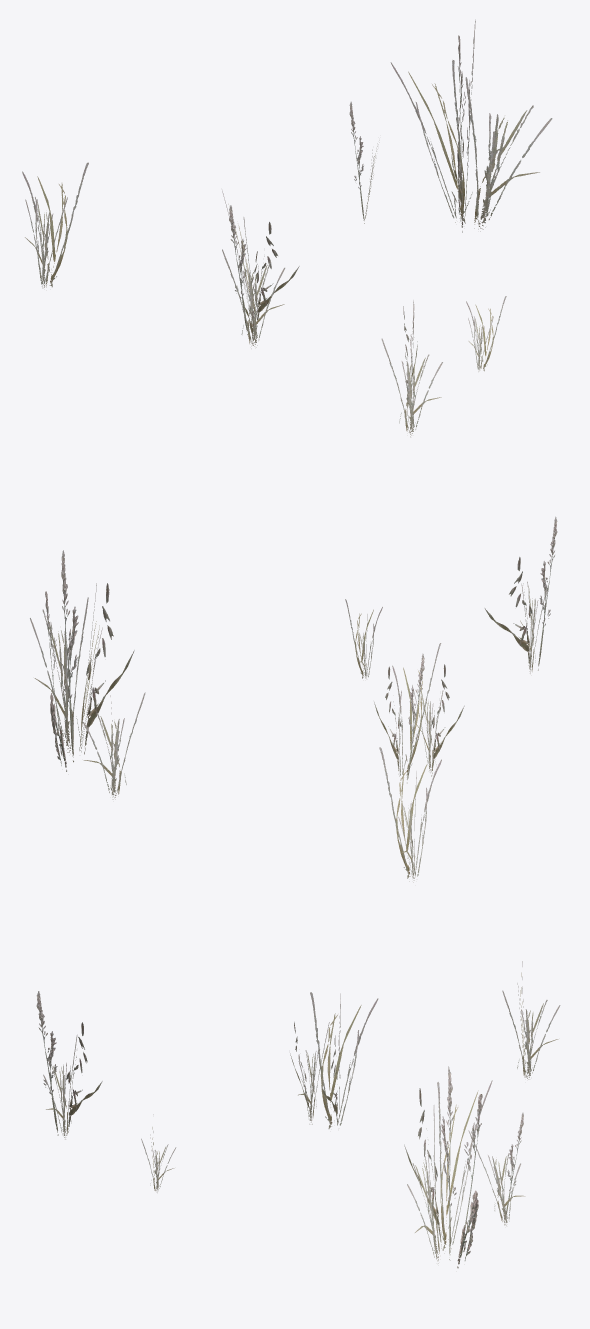
File: urbandryfrnds_01.FBX
3 renders of one model, top to bottom at view 1: azimuth 30°, elevation 25°; view 2: azimuth 150°, elevation 25°; view 3: azimuth 270°, elevation 25°, orthographic. The views are drawn at different scales.
Parts seen in each view (by area): view 1: urbandryfrnds_01; view 2: urbandryfrnds_01; view 3: urbandryfrnds_01.
Part boxes in pixels (x1,y1,x2,y2): urbandryfrnds_01: (22,19,552,437); urbandryfrnds_01: (30,516,557,882); urbandryfrnds_01: (36,961,560,1268).
Bounding box in the file's own units: 1.13 × 1.17 × 0.5913.
1 material, 1 textured.
